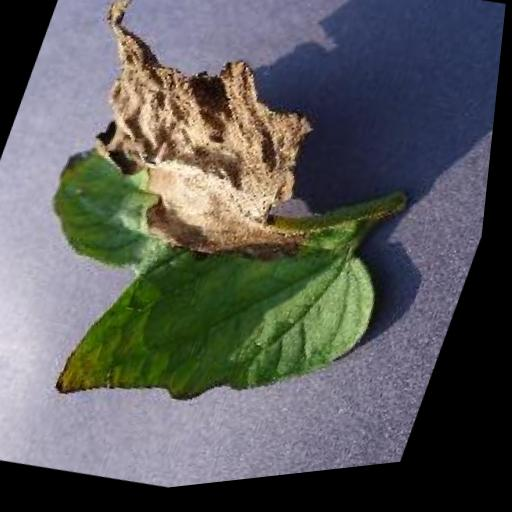Late Blight: (0, 0, 481, 483)
